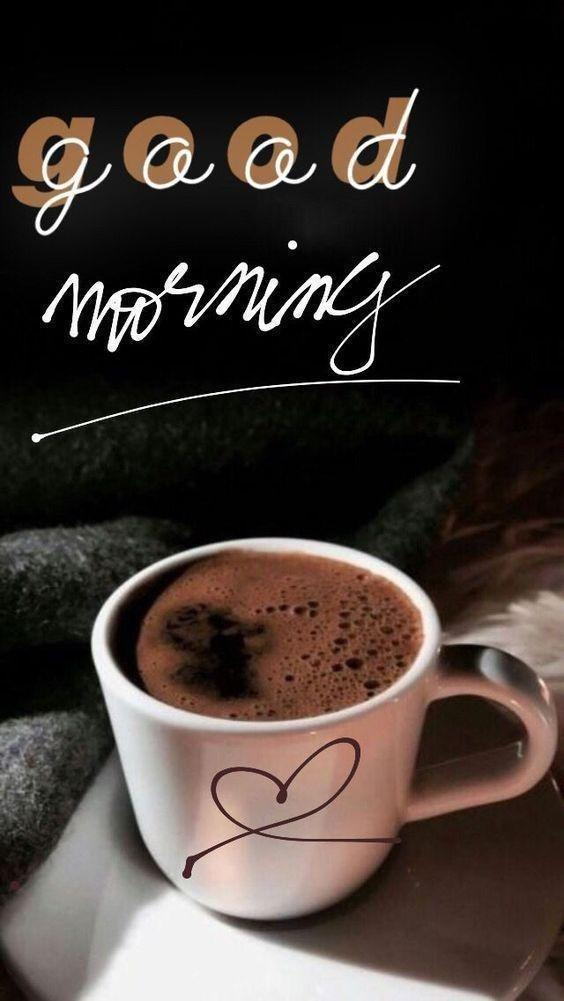cup-handle: (88, 535, 558, 923)
